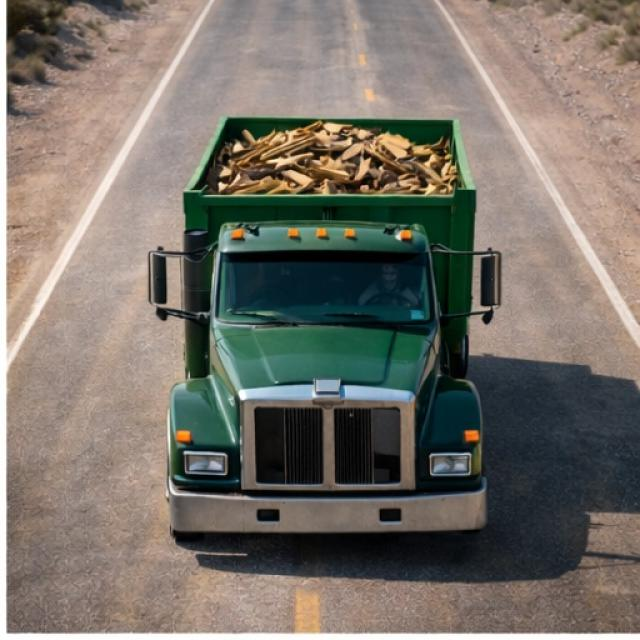trailer: (184, 117, 479, 209)
truck: (144, 103, 502, 546)
